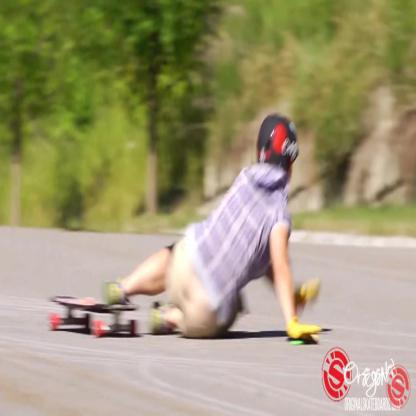Fall_Down: (102, 114, 327, 349)
